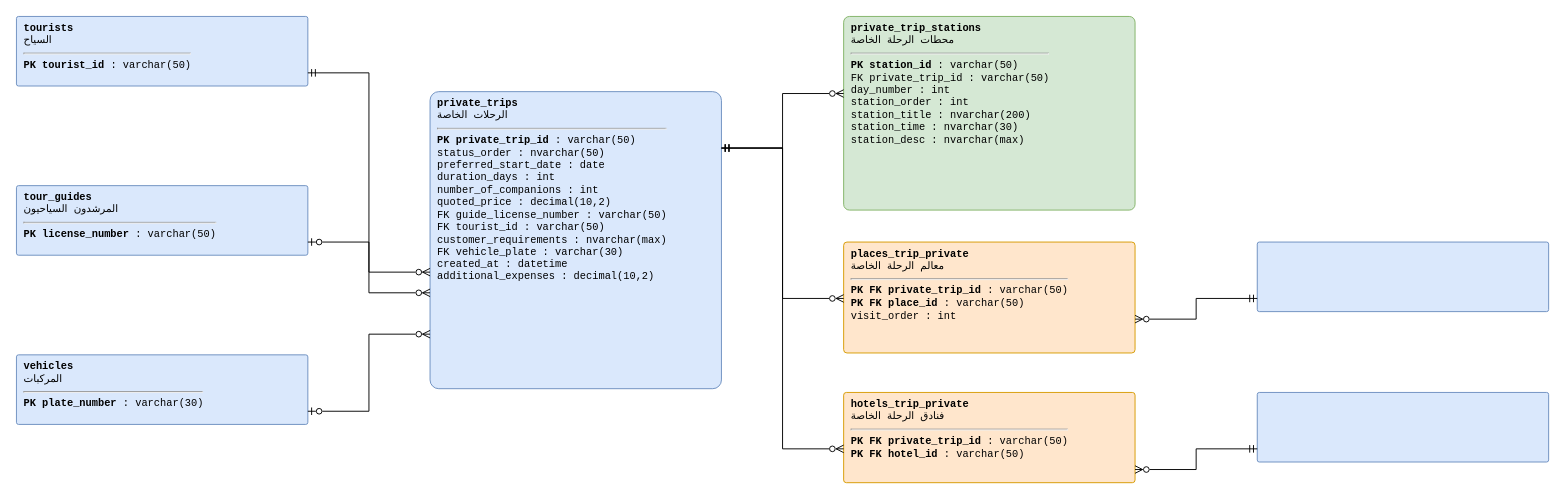
The diagram is 1565 pixels wide and 499 high, and some of its shapes have lost their labels. Each missing label, with the box of its shape:
hotels الفنادق وأماكن الإقامة PK hotel_id : varchar(50): (1256, 392, 1549, 462)
places_tourist المعالم السياحية PK place_id : varchar(50): (1256, 241, 1549, 312)
